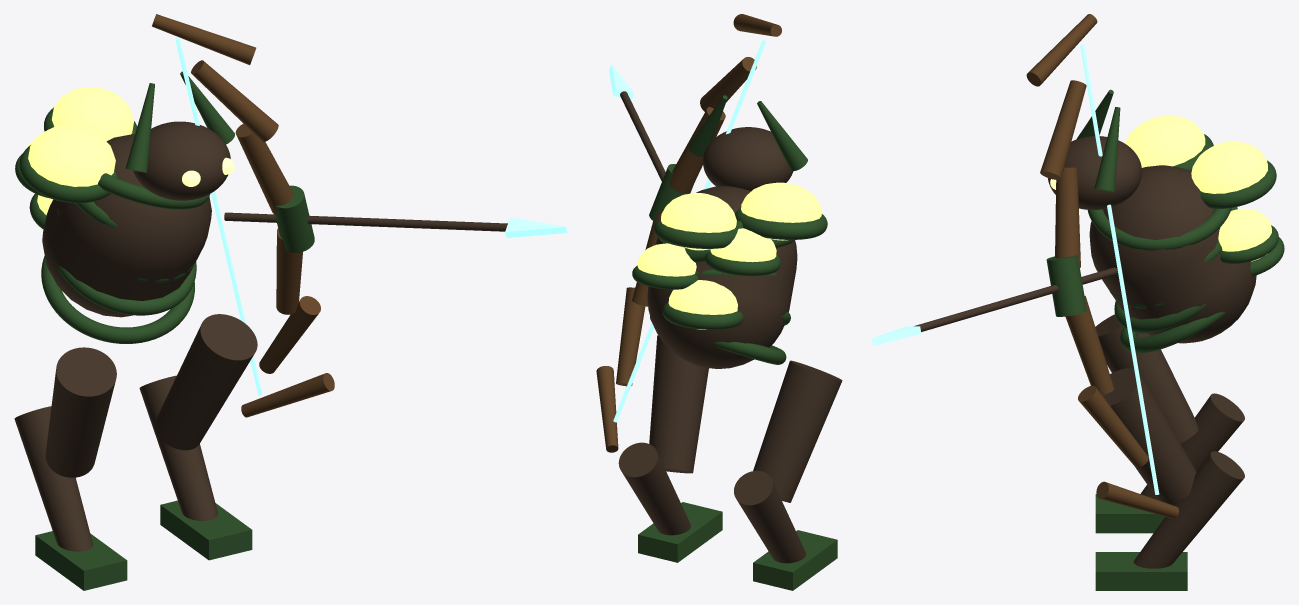
File: enemigo_arquero_balistico.glb
3 views of the same model, side by side, from view 1: azimuth 30°, elevation 25°; view 2: azimuth 150°, elevation 25°; view 3: azimuth 270°, elevation 25° (orthographic). The views are drawn at different scales.
Visible parts, largest first — view 1: _MeshInstance3D_2, _MeshInstance3D_27, _MeshInstance3D_24, _MeshInstance3D_9, _MeshInstance3D_25, _MeshInstance3D_22, _MeshInstance3D_28, _MeshInstance3D_3, _MeshInstance3D_26, _MeshInstance3D_29, _MeshInstance3D_14, _MeshInstance3D_38 (+14 smaller); view 2: _MeshInstance3D_2, _MeshInstance3D_24, _MeshInstance3D_27, _MeshInstance3D_9, _MeshInstance3D_28, _MeshInstance3D_25, _MeshInstance3D_29, _MeshInstance3D_26, _MeshInstance3D_22, _MeshInstance3D_14, _MeshInstance3D_20, _MeshInstance3D_34 (+20 smaller); view 3: _MeshInstance3D_2, _MeshInstance3D_27, _MeshInstance3D_28, _MeshInstance3D_24, _MeshInstance3D_9, _MeshInstance3D_14, _MeshInstance3D_22, _MeshInstance3D_29, _MeshInstance3D_25, _MeshInstance3D_30, _MeshInstance3D_7, _MeshInstance3D_31 (+16 smaller).
Part boxes in pixels (<box>): _MeshInstance3D_2: <box>42,134,211,317</box>; _MeshInstance3D_27: <box>154,314,257,450</box>; _MeshInstance3D_24: <box>45,347,116,477</box>; _MeshInstance3D_9: <box>133,121,230,200</box>; _MeshInstance3D_25: <box>14,406,92,551</box>; _MeshInstance3D_22: <box>28,125,115,186</box>; _MeshInstance3D_28: <box>139,375,217,520</box>; _MeshInstance3D_3: <box>41,256,194,343</box>; _MeshInstance3D_26: <box>35,531,127,590</box>; _MeshInstance3D_29: <box>160,500,252,560</box>; _MeshInstance3D_14: <box>52,87,133,140</box>; _MeshInstance3D_38: <box>224,212,507,231</box>; _MeshInstance3D_2: <box>647,186,797,368</box>; _MeshInstance3D_24: <box>753,360,842,502</box>; _MeshInstance3D_27: <box>649,335,708,473</box>; _MeshInstance3D_9: <box>703,127,793,190</box>; _MeshInstance3D_28: <box>618,442,690,535</box>; _MeshInstance3D_25: <box>734,470,806,563</box>; _MeshInstance3D_29: <box>638,502,722,562</box>; _MeshInstance3D_26: <box>753,530,837,590</box>; _MeshInstance3D_22: <box>741,182,821,240</box>; _MeshInstance3D_14: <box>661,193,736,250</box>; _MeshInstance3D_20: <box>668,280,737,329</box>; _MeshInstance3D_34: <box>616,287,645,386</box>; _MeshInstance3D_2: <box>1089,165,1256,343</box>; _MeshInstance3D_27: <box>1102,368,1196,503</box>; _MeshInstance3D_28: <box>1133,451,1244,568</box>; _MeshInstance3D_24: <box>1095,314,1198,443</box>; _MeshInstance3D_9: <box>1048,136,1141,209</box>; _MeshInstance3D_14: <box>1191,141,1267,193</box>; _MeshInstance3D_22: <box>1125,115,1205,167</box>; _MeshInstance3D_29: <box>1095,552,1187,590</box>; _MeshInstance3D_25: <box>1140,393,1244,505</box>; _MeshInstance3D_30: <box>1055,167,1080,267</box>; _MeshInstance3D_7: <box>1087,208,1231,250</box>; _MeshInstance3D_31: <box>1040,80,1086,179</box>.
Size of the model in its own units: 1.61 by 2.23 by 1.57.
